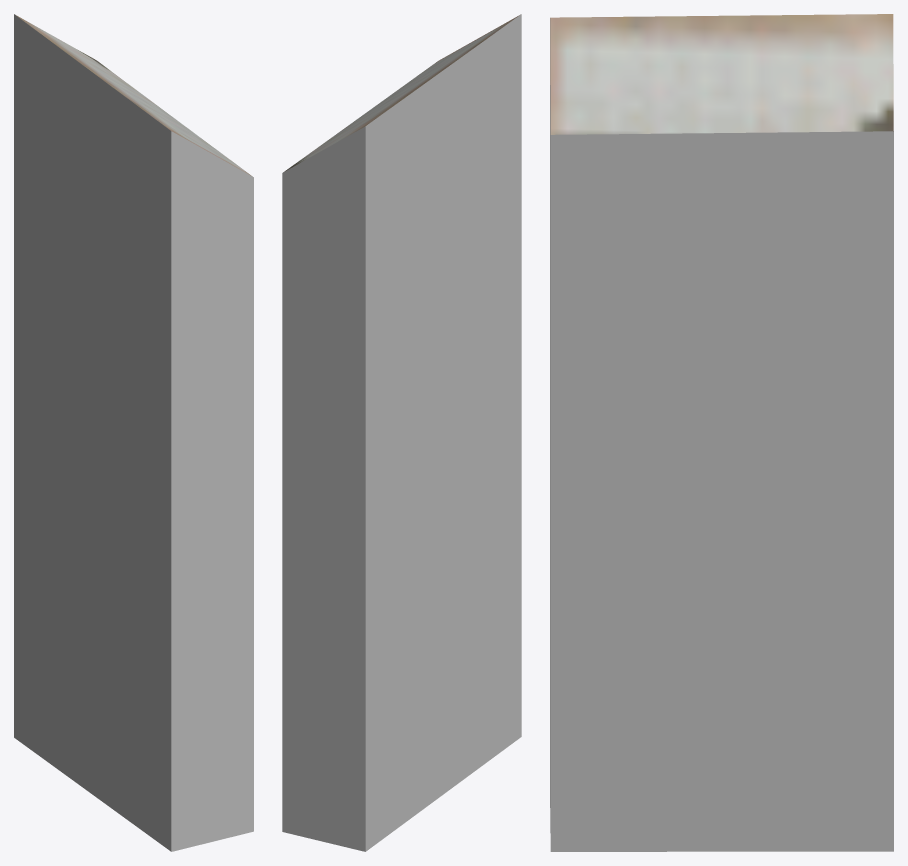
File: DEBW_0010007THZw.gltf
3 renders of one model, left to right at view 1: azimuth 30°, elevation 25°; view 2: azimuth 150°, elevation 25°; view 3: azimuth 270°, elevation 25°, orthographic. The views are drawn at different scales.
Visible parts, largest first — view 1: Z_UP; view 2: Z_UP; view 3: Z_UP.
Boxes of the visible parts, bbox=[...] form: Z_UP: bbox=[14, 14, 253, 851]; Z_UP: bbox=[282, 14, 521, 851]; Z_UP: bbox=[550, 14, 893, 851].
Bounding box in the file's own units: 1.82 × 15.05 × 5.91.
2 materials, 1 textured.
